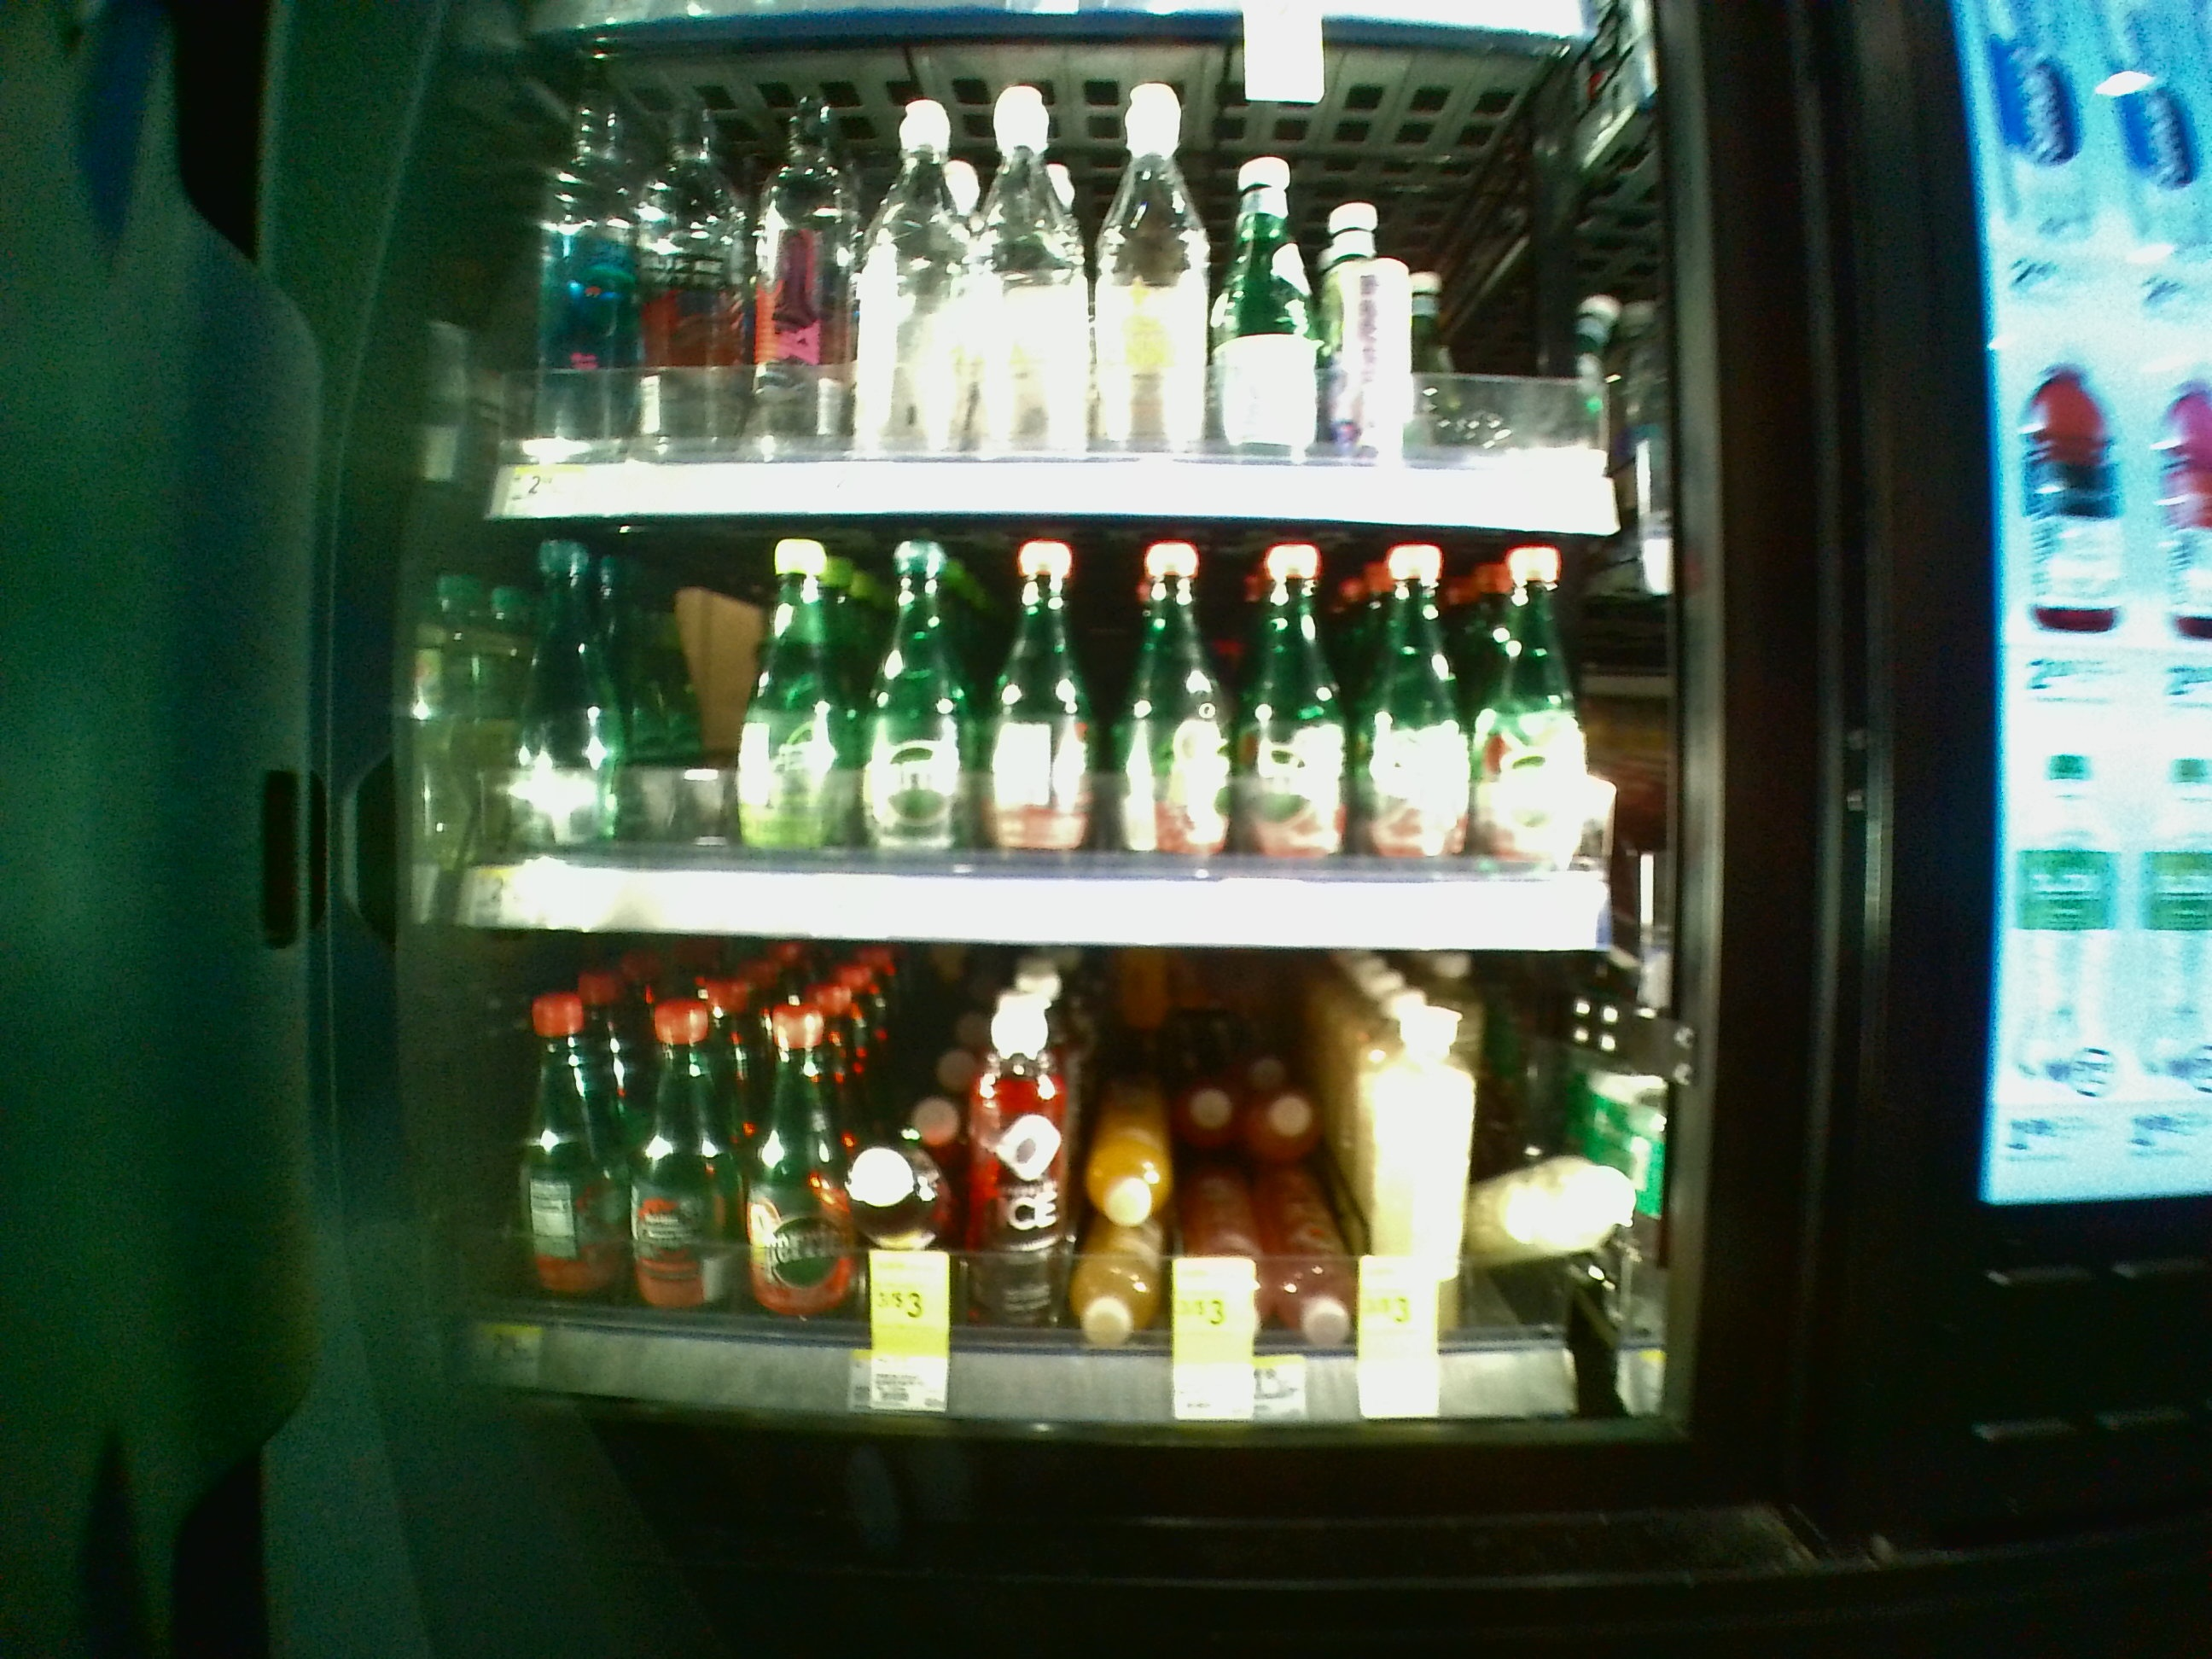shelf: (444, 962, 1681, 1424), (441, 521, 1681, 957)
